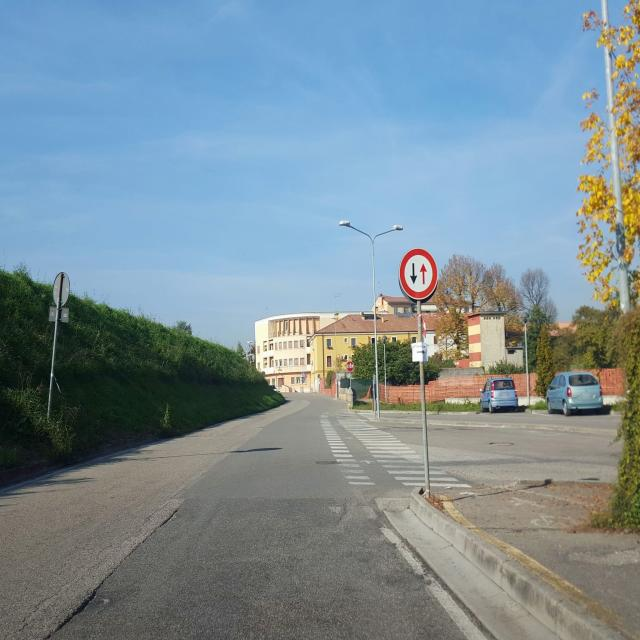car: (546, 370, 604, 416), (479, 376, 519, 413)
